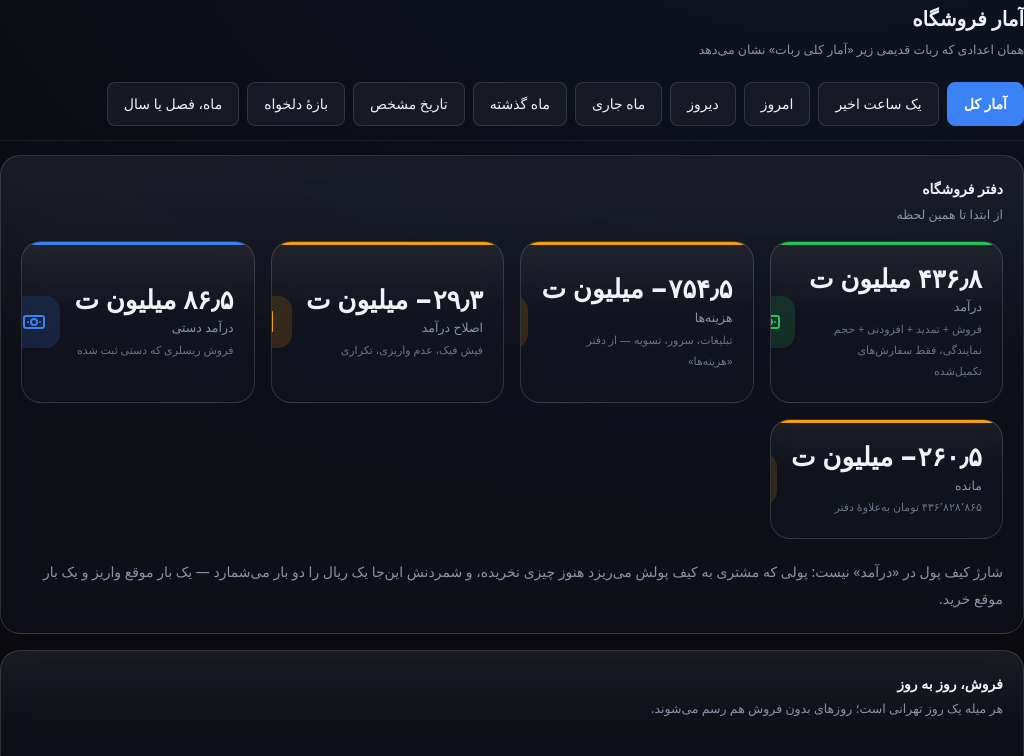
Test case: the date fields read the way a Persian date is spoken › dresses them as one control rather than three loose dropdowns
Click the button "بازهٔ دلخواه" at (296, 104), box x1=247 y1=82 x2=345 y2=126
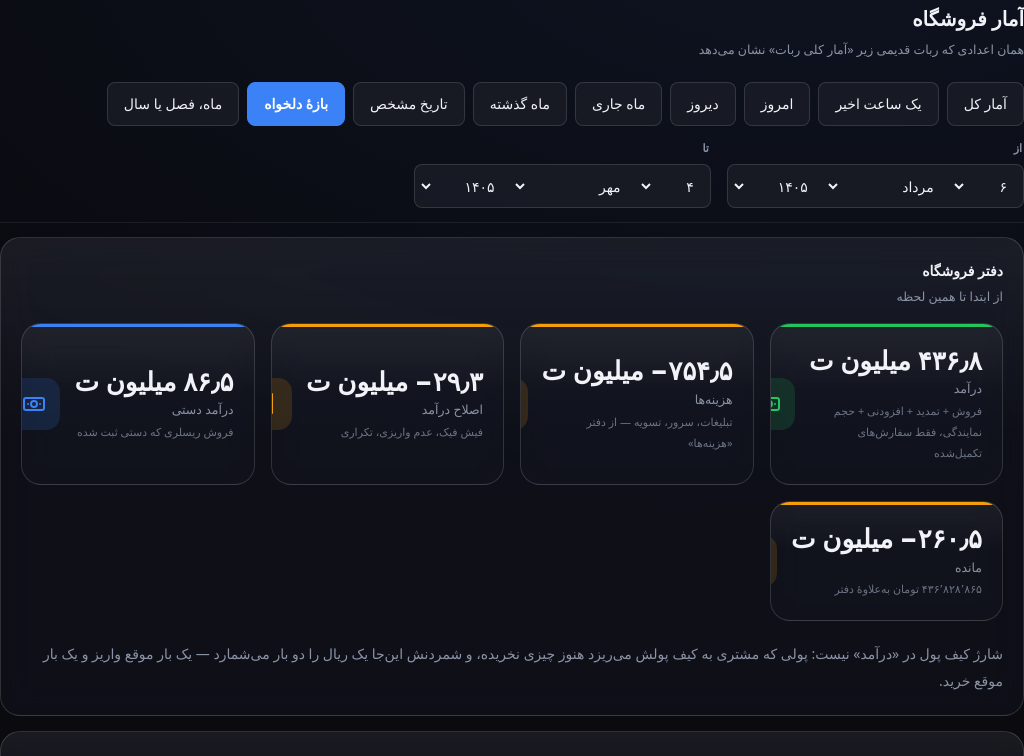
Expected: the text "از" is shown, x1=727 y1=138 x2=1023 y2=208
Expected: the text "تا" is shown, x1=414 y1=138 x2=711 y2=208
